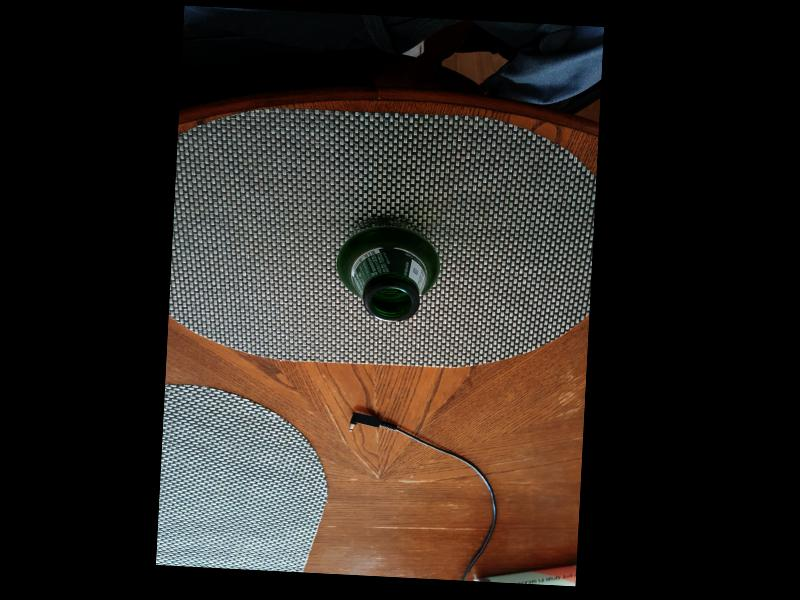Beer: (338, 214, 436, 322)
